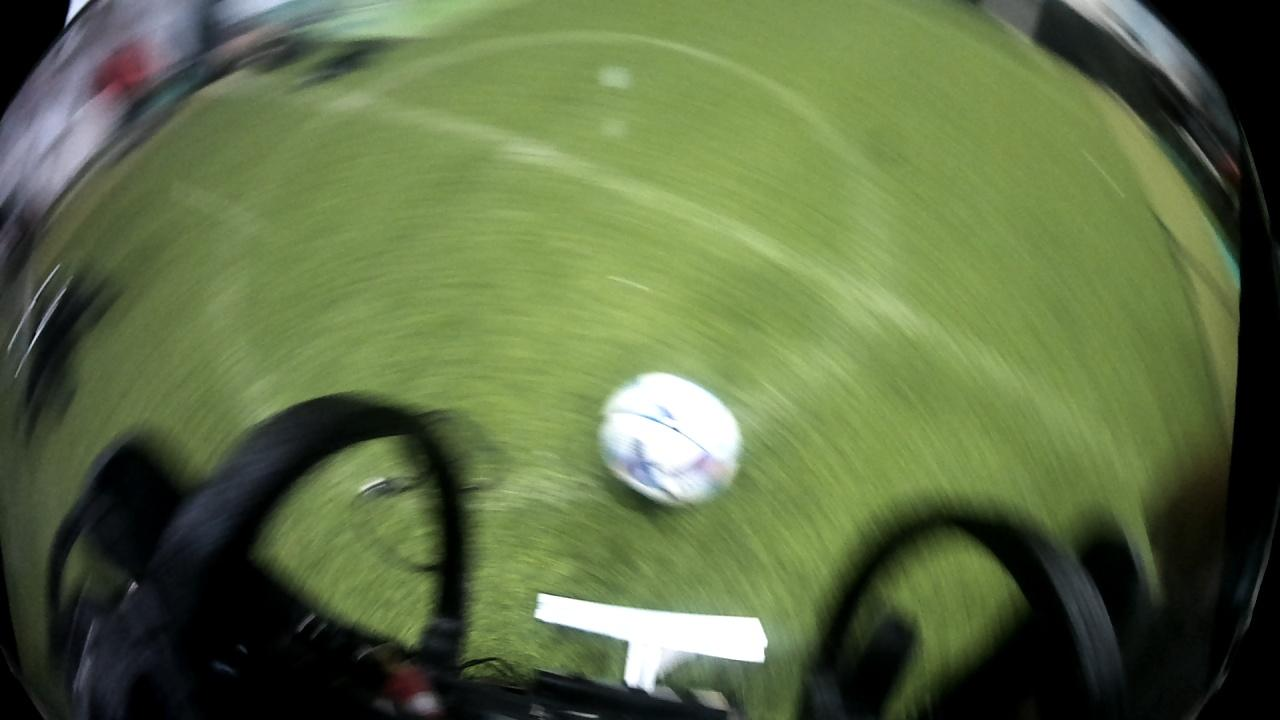ball: (597, 363, 751, 512)
